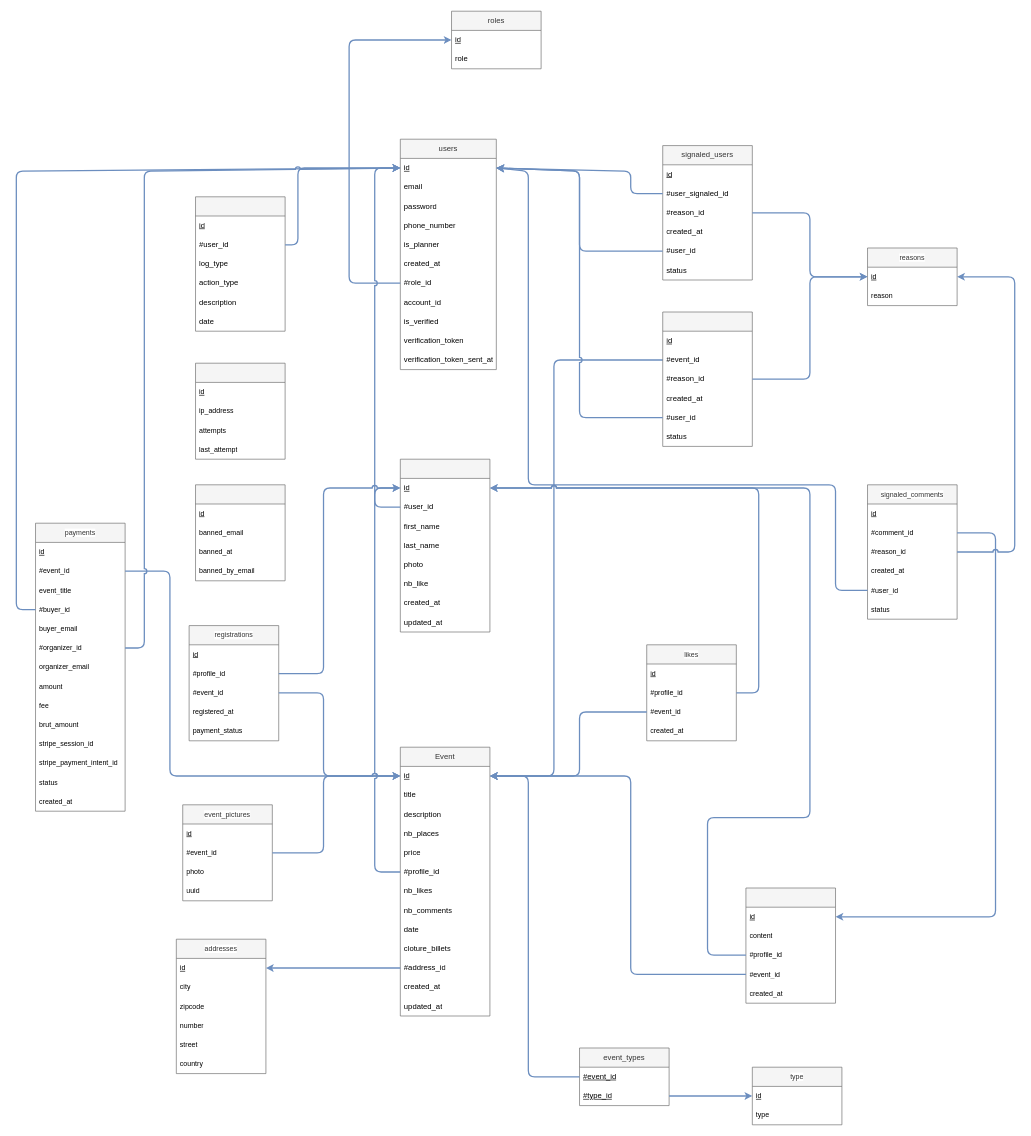
Image size: 1031x1136. Some labels were removed from this diagram. The box of each missing label's shape, as (x1, y1, x2, y2) in pixels:
action_logs: (195, 196, 285, 331)
banned_users: (195, 484, 285, 581)
Comment: (745, 887, 836, 1003)
failed_logins: (195, 363, 285, 459)
Profiles: (400, 459, 490, 632)
signaled_events: (662, 311, 752, 446)
